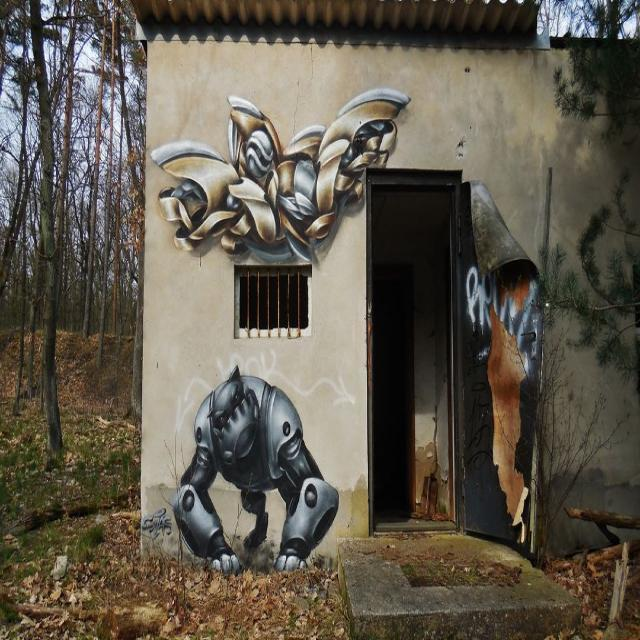nonspitting: (152, 81, 408, 264), (170, 358, 343, 566), (464, 269, 539, 371)
